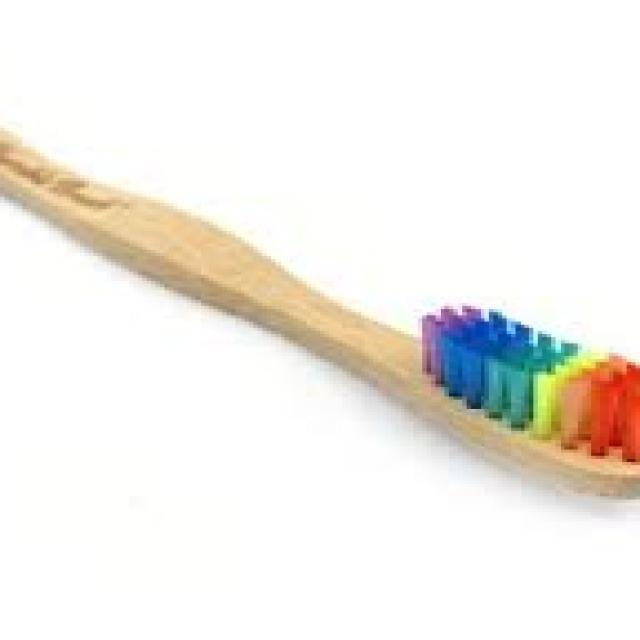organic: (5, 104, 633, 521)
